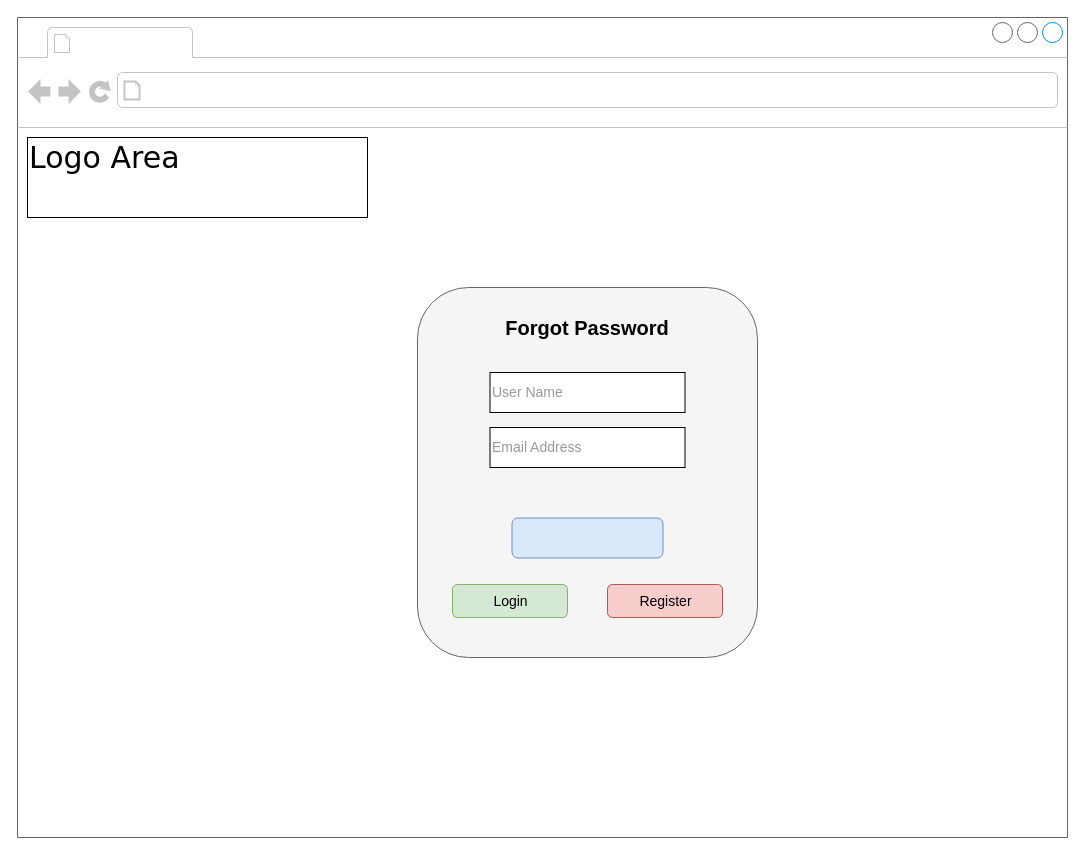
Image size: 1085x855. Some labels were removed from this diagram. The shapes that lost their labels are listed below. From the top down, each one's centre as x and y in pixels, then its label:
the point at 132,42: Page 1
the point at 272,90: https://www.default.com
the point at 587,537: New Password
